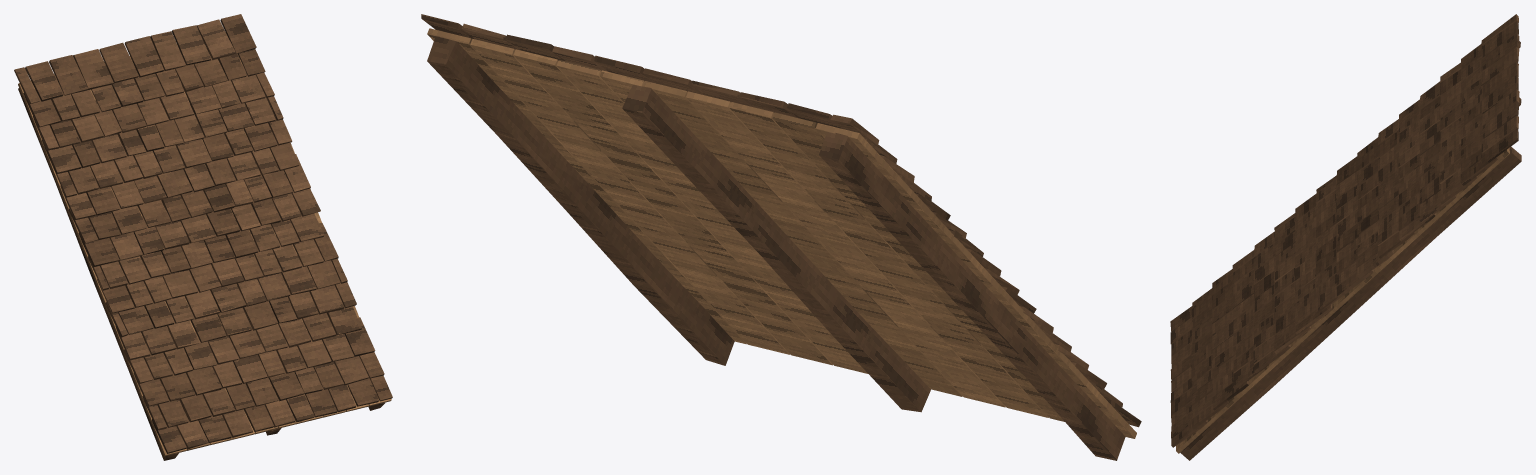
The model's file is telhado_tabuinhas.glb.
3 renders of one model, left to right at view 1: azimuth 30°, elevation 25°; view 2: azimuth 150°, elevation 25°; view 3: azimuth 270°, elevation 25°, orthographic. The views are drawn at different scales.
Parts seen in each view (by area): view 1: telhado_tabuinhas_madeira_escura, telhado_tabuinhas_madeira; view 2: telhado_tabuinhas_madeira, telhado_tabuinhas_madeira_escura; view 3: telhado_tabuinhas_madeira_escura, telhado_tabuinhas_madeira.
Part boxes in pixels (box(x1,y1,x2,y2)): telhado_tabuinhas_madeira_escura: box(14, 14, 392, 460); telhado_tabuinhas_madeira: box(18, 45, 391, 456); telhado_tabuinhas_madeira: box(427, 28, 1136, 438); telhado_tabuinhas_madeira_escura: box(421, 14, 1141, 460); telhado_tabuinhas_madeira_escura: box(1170, 14, 1521, 460); telhado_tabuinhas_madeira: box(1176, 147, 1509, 453).
Size of the model in its own units: 3.04 by 3.68 by 3.59.
Materials: 2 (2 with a texture image).
